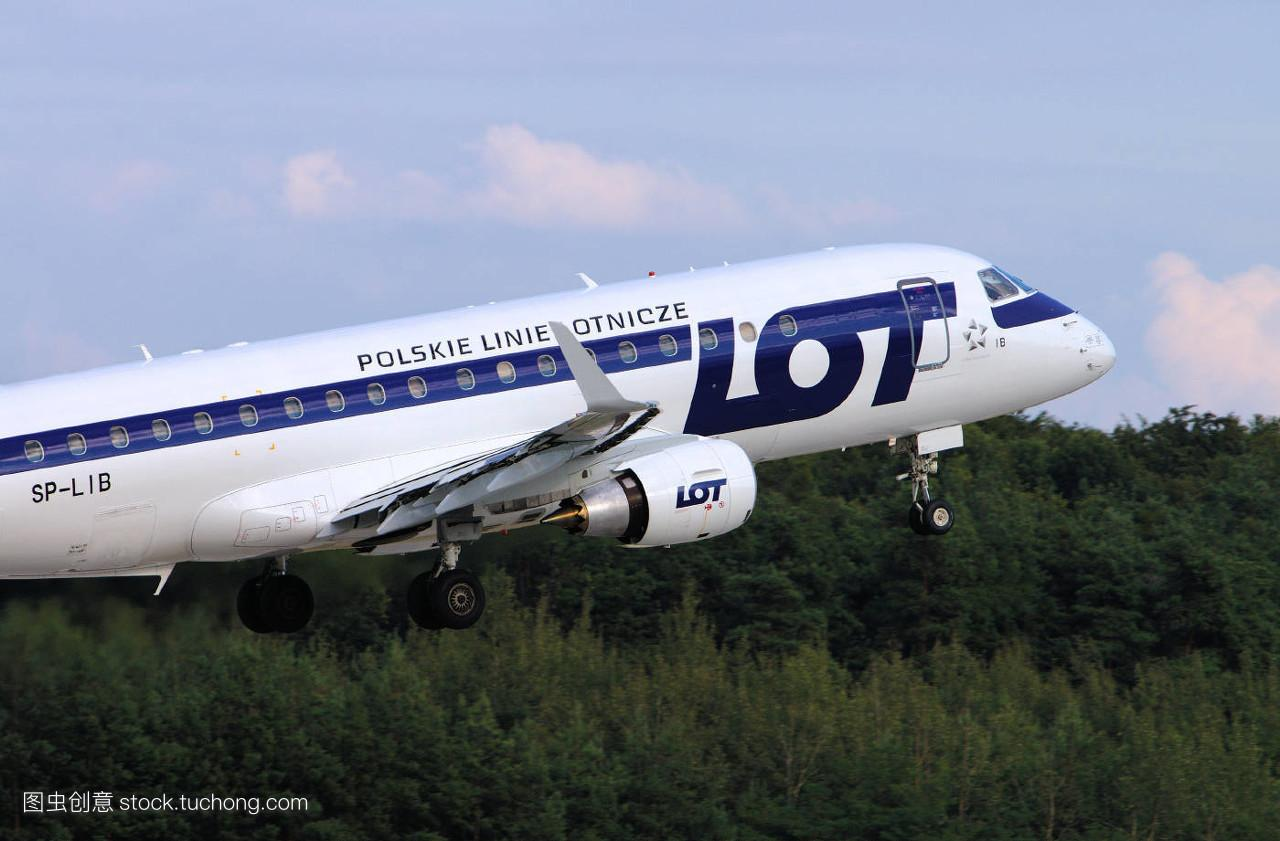airplane: (3, 224, 1122, 596)
